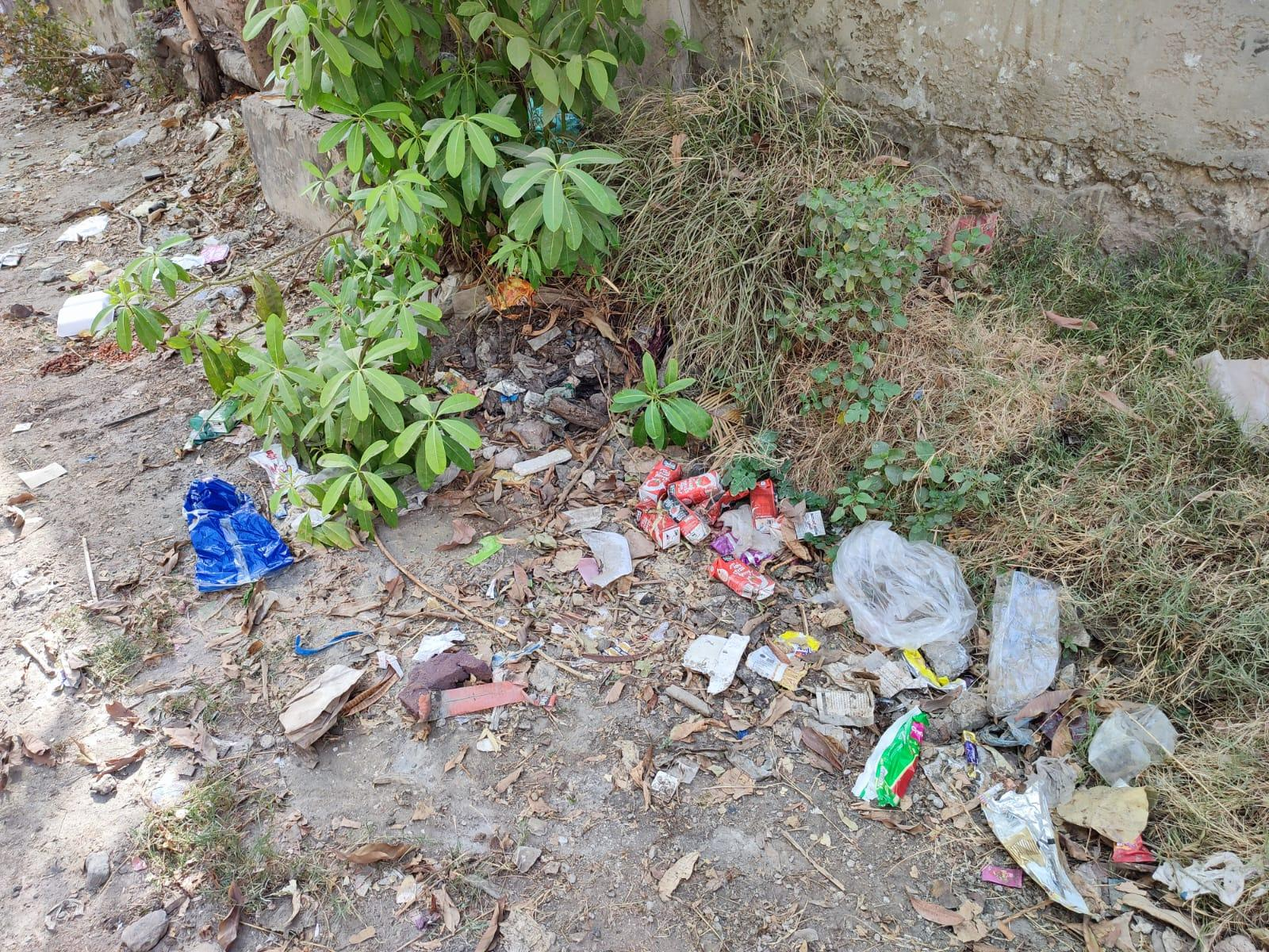garbage: (422, 266, 1213, 926)
